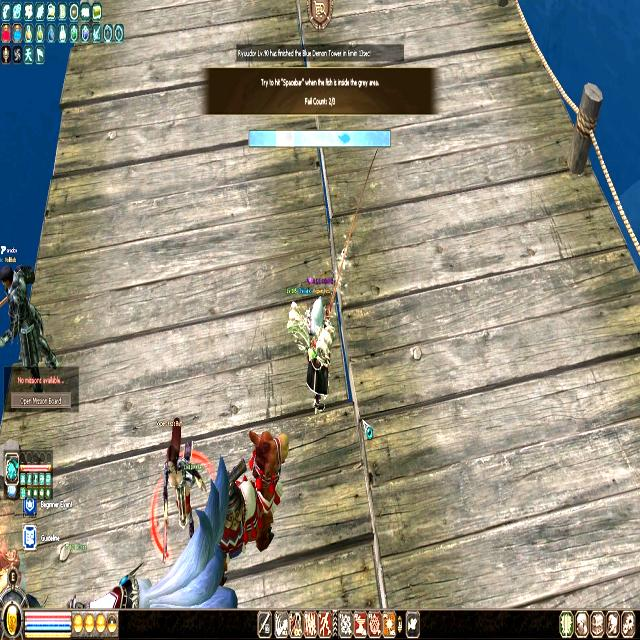fishes: (338, 131, 350, 145)
